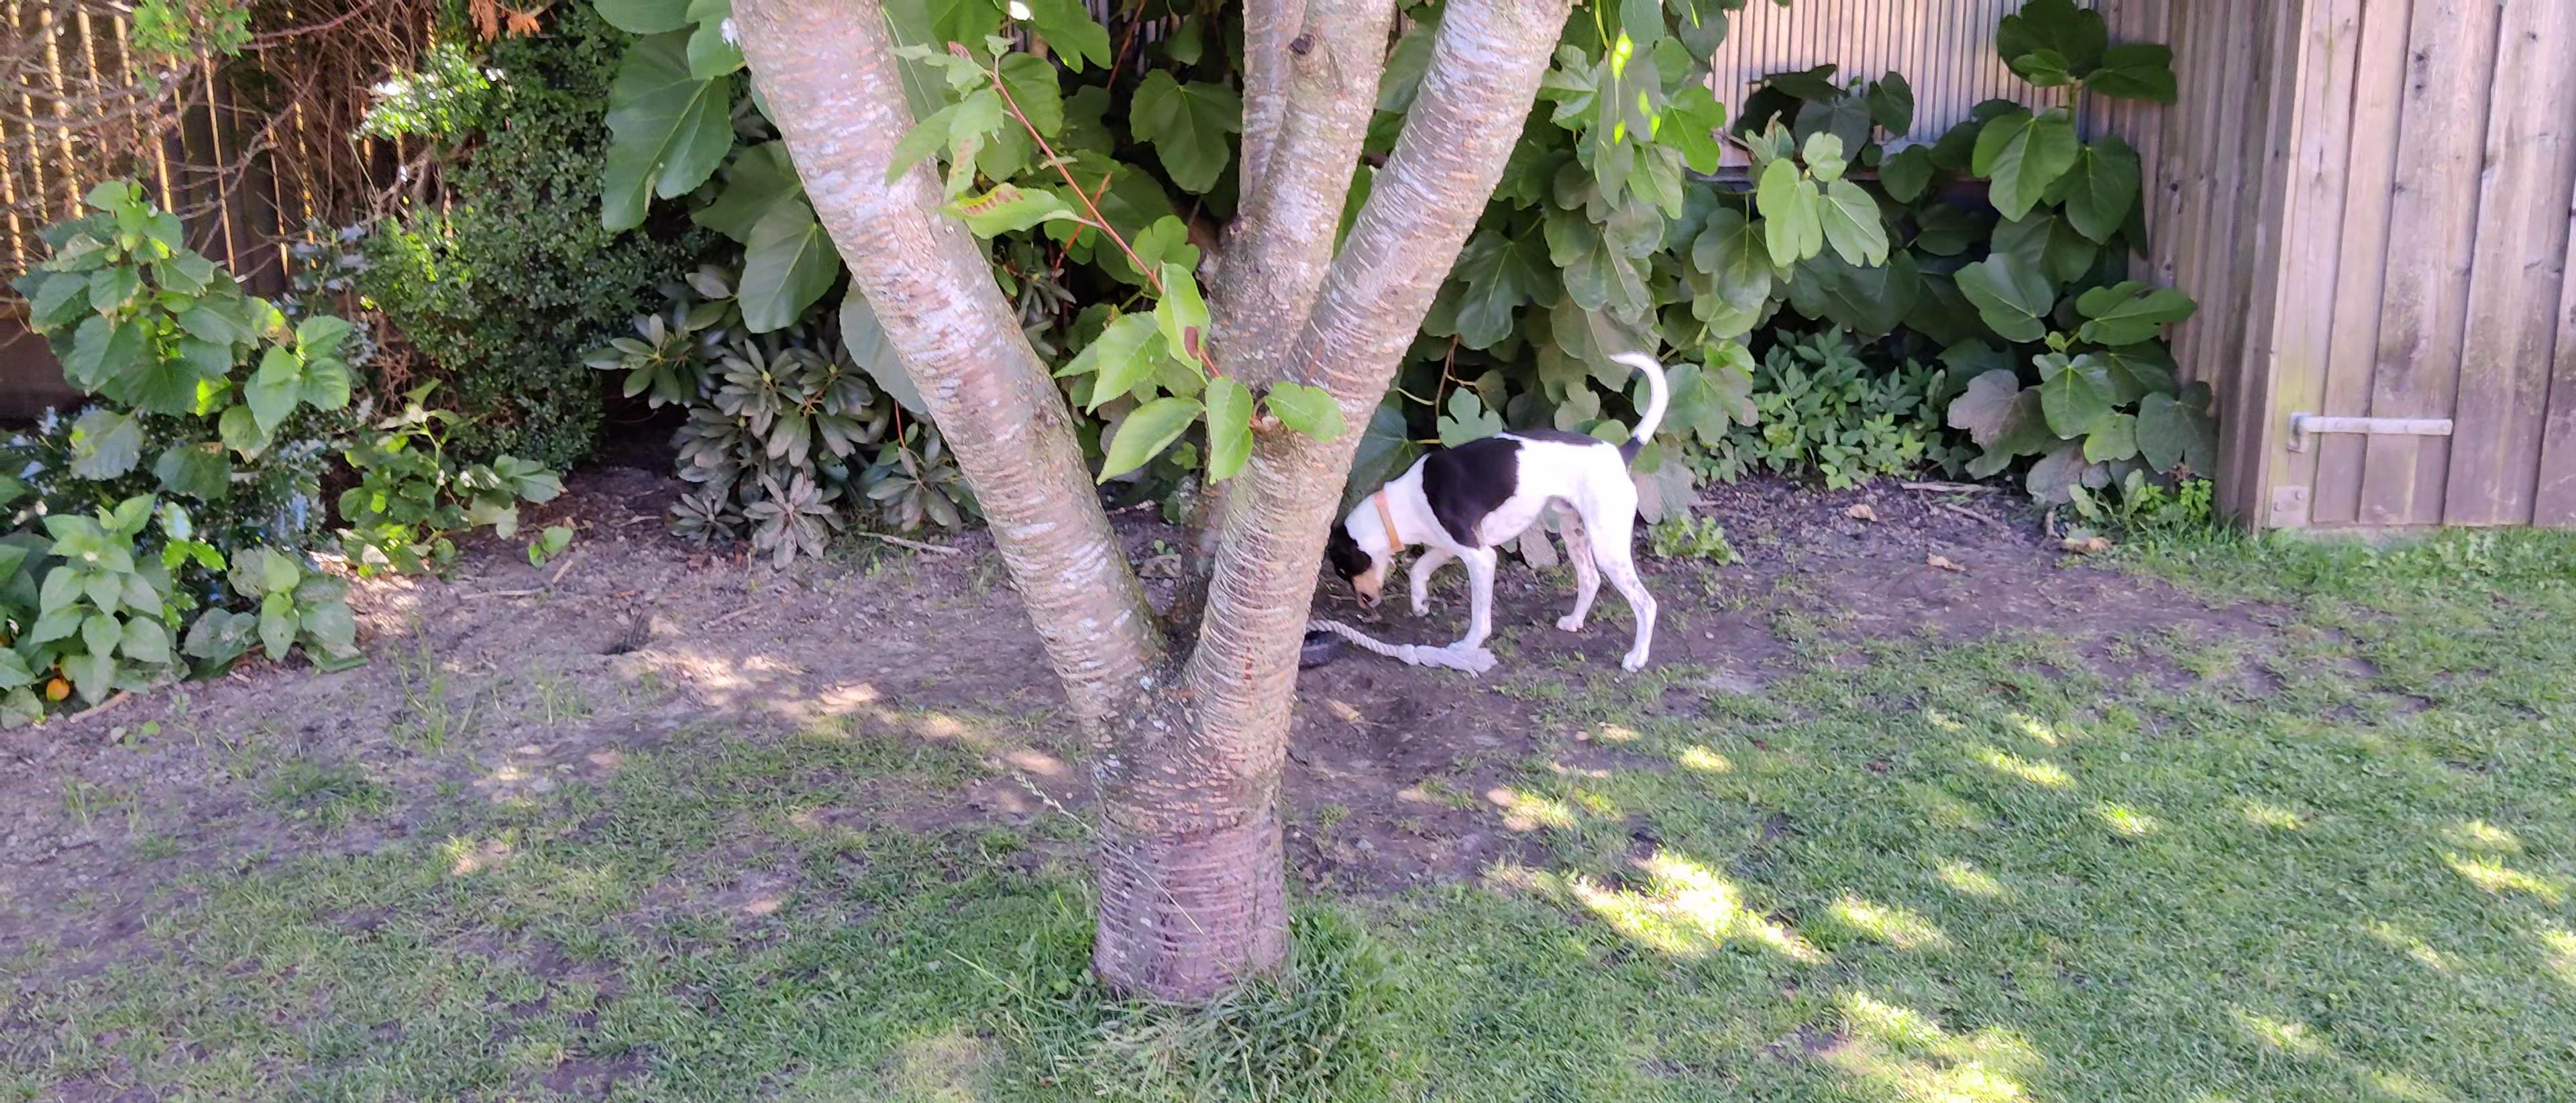Dog: (1314, 345, 1674, 676)
